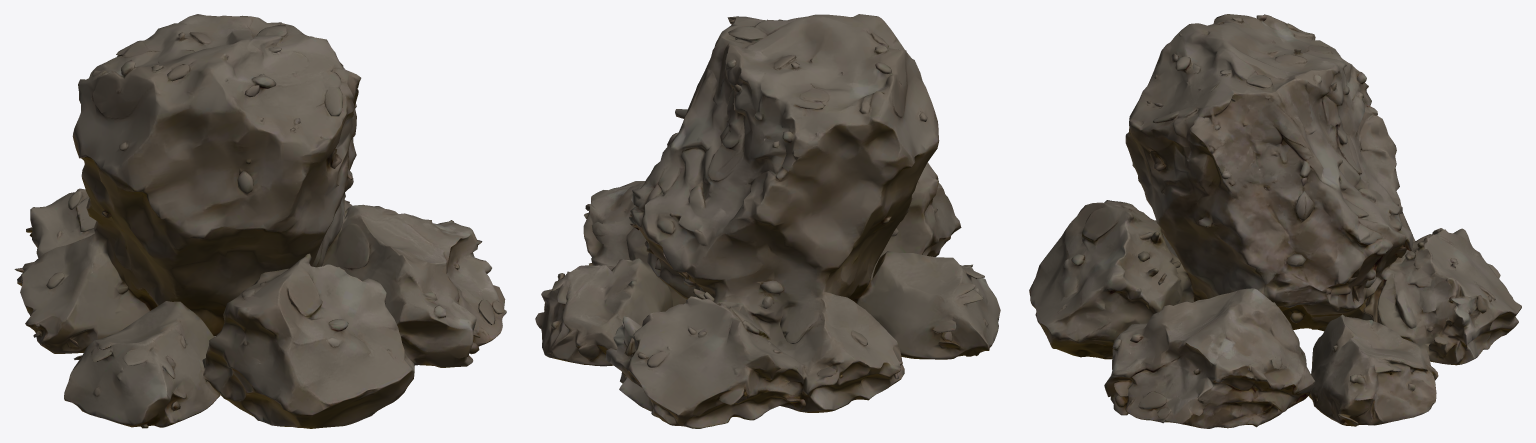
Rendered from rock-low-cluster.glb.
3 views of the same model, side by side, from view 1: azimuth 30°, elevation 25°; view 2: azimuth 150°, elevation 25°; view 3: azimuth 270°, elevation 25° (orthographic). The views are drawn at different scales.
Parts seen in each view (by area): view 1: tripo_node_39cd7809-f92d-4d22-a0b0-35c469fb7cbe; view 2: tripo_node_39cd7809-f92d-4d22-a0b0-35c469fb7cbe; view 3: tripo_node_39cd7809-f92d-4d22-a0b0-35c469fb7cbe.
Part boxes in pixels (box(x1,y1,x2,y2)): tripo_node_39cd7809-f92d-4d22-a0b0-35c469fb7cbe: box(14, 14, 506, 428); tripo_node_39cd7809-f92d-4d22-a0b0-35c469fb7cbe: box(535, 14, 1000, 428); tripo_node_39cd7809-f92d-4d22-a0b0-35c469fb7cbe: box(1029, 14, 1521, 428).
Size of the model in its own units: 0.6138 by 0.45 by 0.6785.
1 material, 1 textured.
